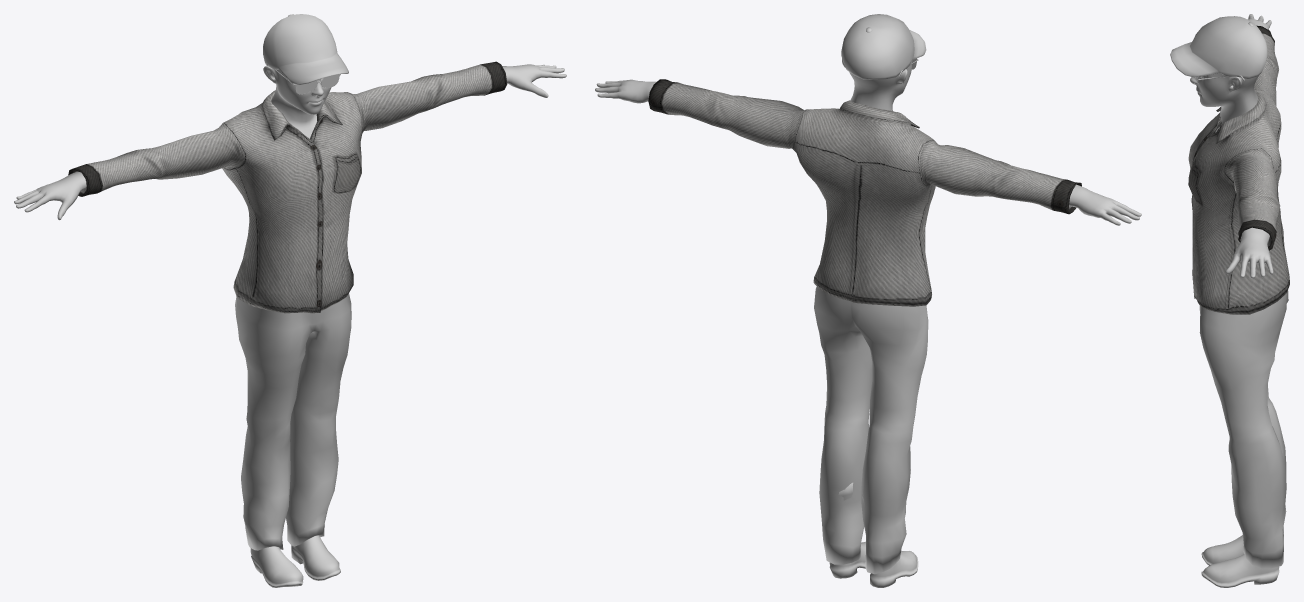
Rendered from Buchon 2.obj.
3 renders of one model, left to right at view 1: azimuth 30°, elevation 25°; view 2: azimuth 150°, elevation 25°; view 3: azimuth 270°, elevation 25°, orthographic.
Parts seen in each view (by area): view 1: Tops, Bottoms, Body, Hats, Shoes; view 2: Tops, Bottoms, Hats, Body, Shoes; view 3: Tops, Bottoms, Hats, Body, Shoes.
Boxes of the visible parts, <box> form: Tops: <box>68,61,507,313</box>; Bottoms: <box>235,293,351,550</box>; Body: <box>14,64,566,220</box>; Hats: <box>263,14,348,84</box>; Shoes: <box>250,535,340,587</box>; Tops: <box>648,79,1081,306</box>; Bottoms: <box>814,286,928,574</box>; Hats: <box>841,14,926,79</box>; Body: <box>595,58,1141,225</box>; Shoes: <box>829,482,918,587</box>; Tops: <box>1188,25,1289,314</box>; Bottoms: <box>1199,291,1288,569</box>; Hats: <box>1170,16,1267,78</box>; Body: <box>1190,14,1273,278</box>; Shoes: <box>1201,535,1279,587</box>.
Bounding box in the file's own units: 175 × 170 × 33.44.
